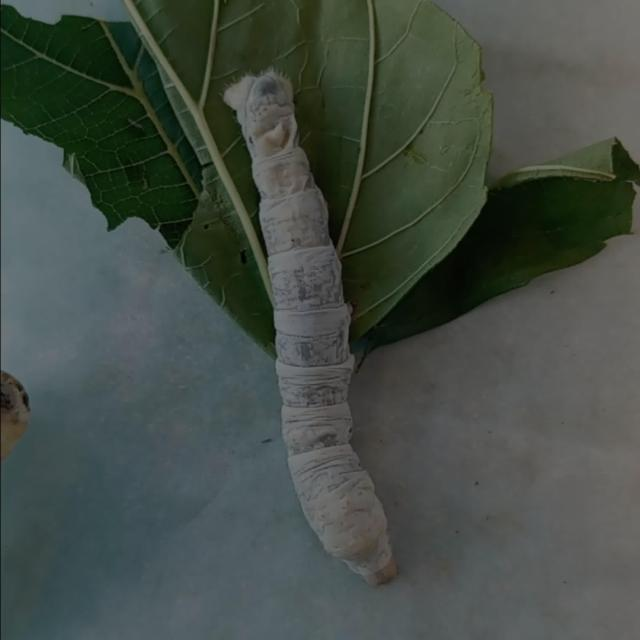Grasserie: (215, 58, 416, 596)
